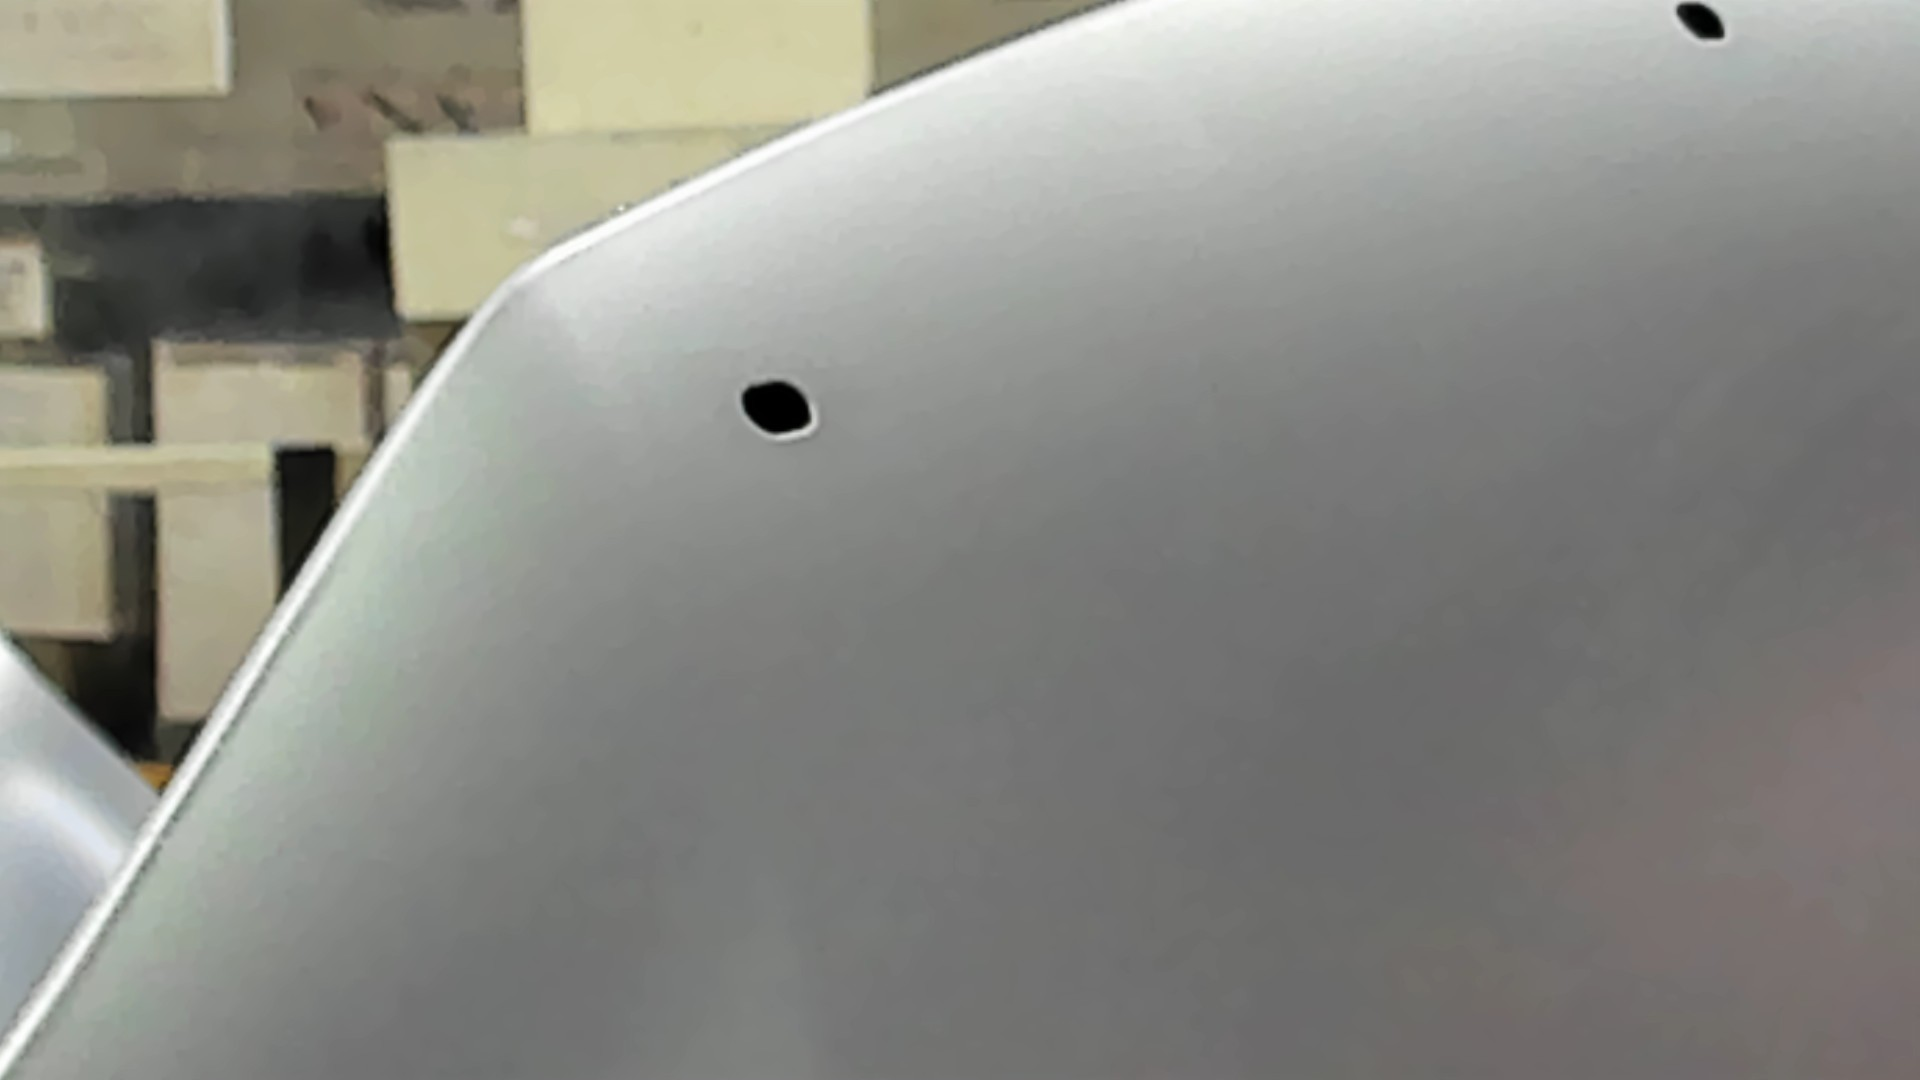amorfo: (735, 376, 823, 444), (1669, 1, 1733, 49)
capo: (880, 141, 1920, 1080)
